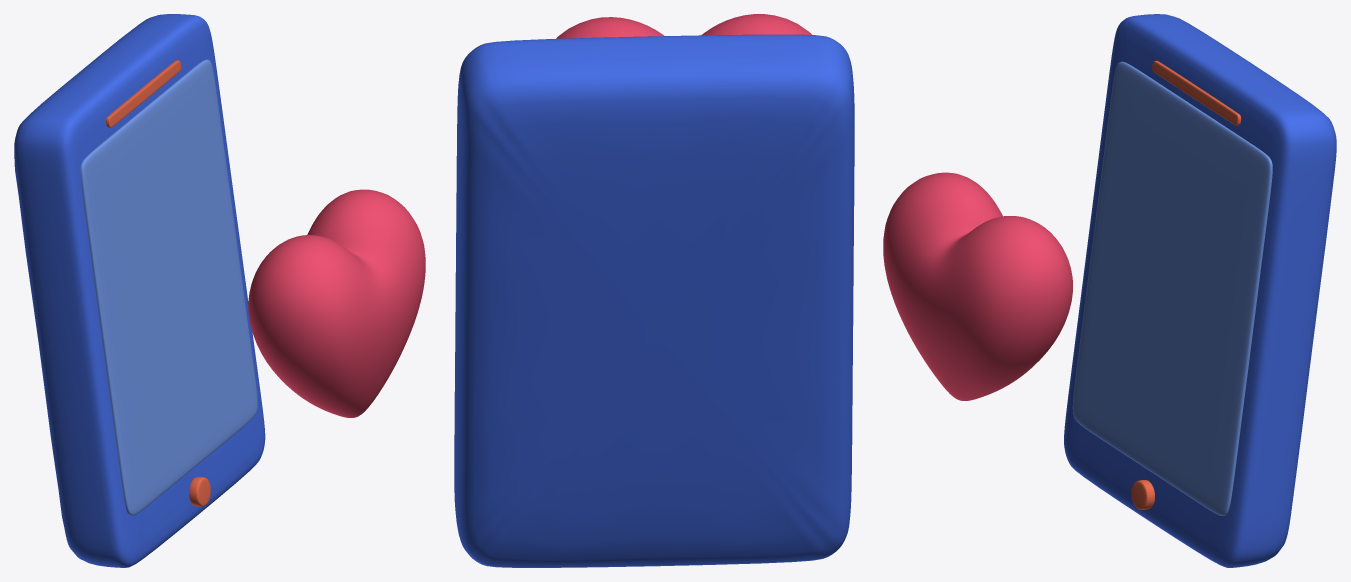
Rendered from smartphone-3d-animated-icon-1657715501922.glb.
3 views of the same model, side by side, from view 1: azimuth 30°, elevation 25°; view 2: azimuth 150°, elevation 25°; view 3: azimuth 270°, elevation 25° (orthographic). The views are drawn at different scales.
Visible parts, largest first — view 1: screen, case, heart, speaker, button; view 2: case, heart; view 3: screen, case, heart, speaker, button.
Boxes of the visible parts, box(x1,y1,x2,y2) form: screen: box(80, 59, 257, 515); case: box(14, 14, 265, 567); heart: box(248, 189, 425, 417); speaker: box(106, 60, 181, 127); button: box(189, 477, 210, 506); case: box(454, 34, 854, 567); heart: box(556, 14, 811, 38); screen: box(1072, 61, 1272, 515); case: box(1064, 14, 1336, 567); heart: box(883, 172, 1072, 400); speaker: box(1152, 60, 1241, 125); button: box(1131, 480, 1154, 509).
Bounding box in the file's own units: 2.22 × 2.89 × 2.66.
